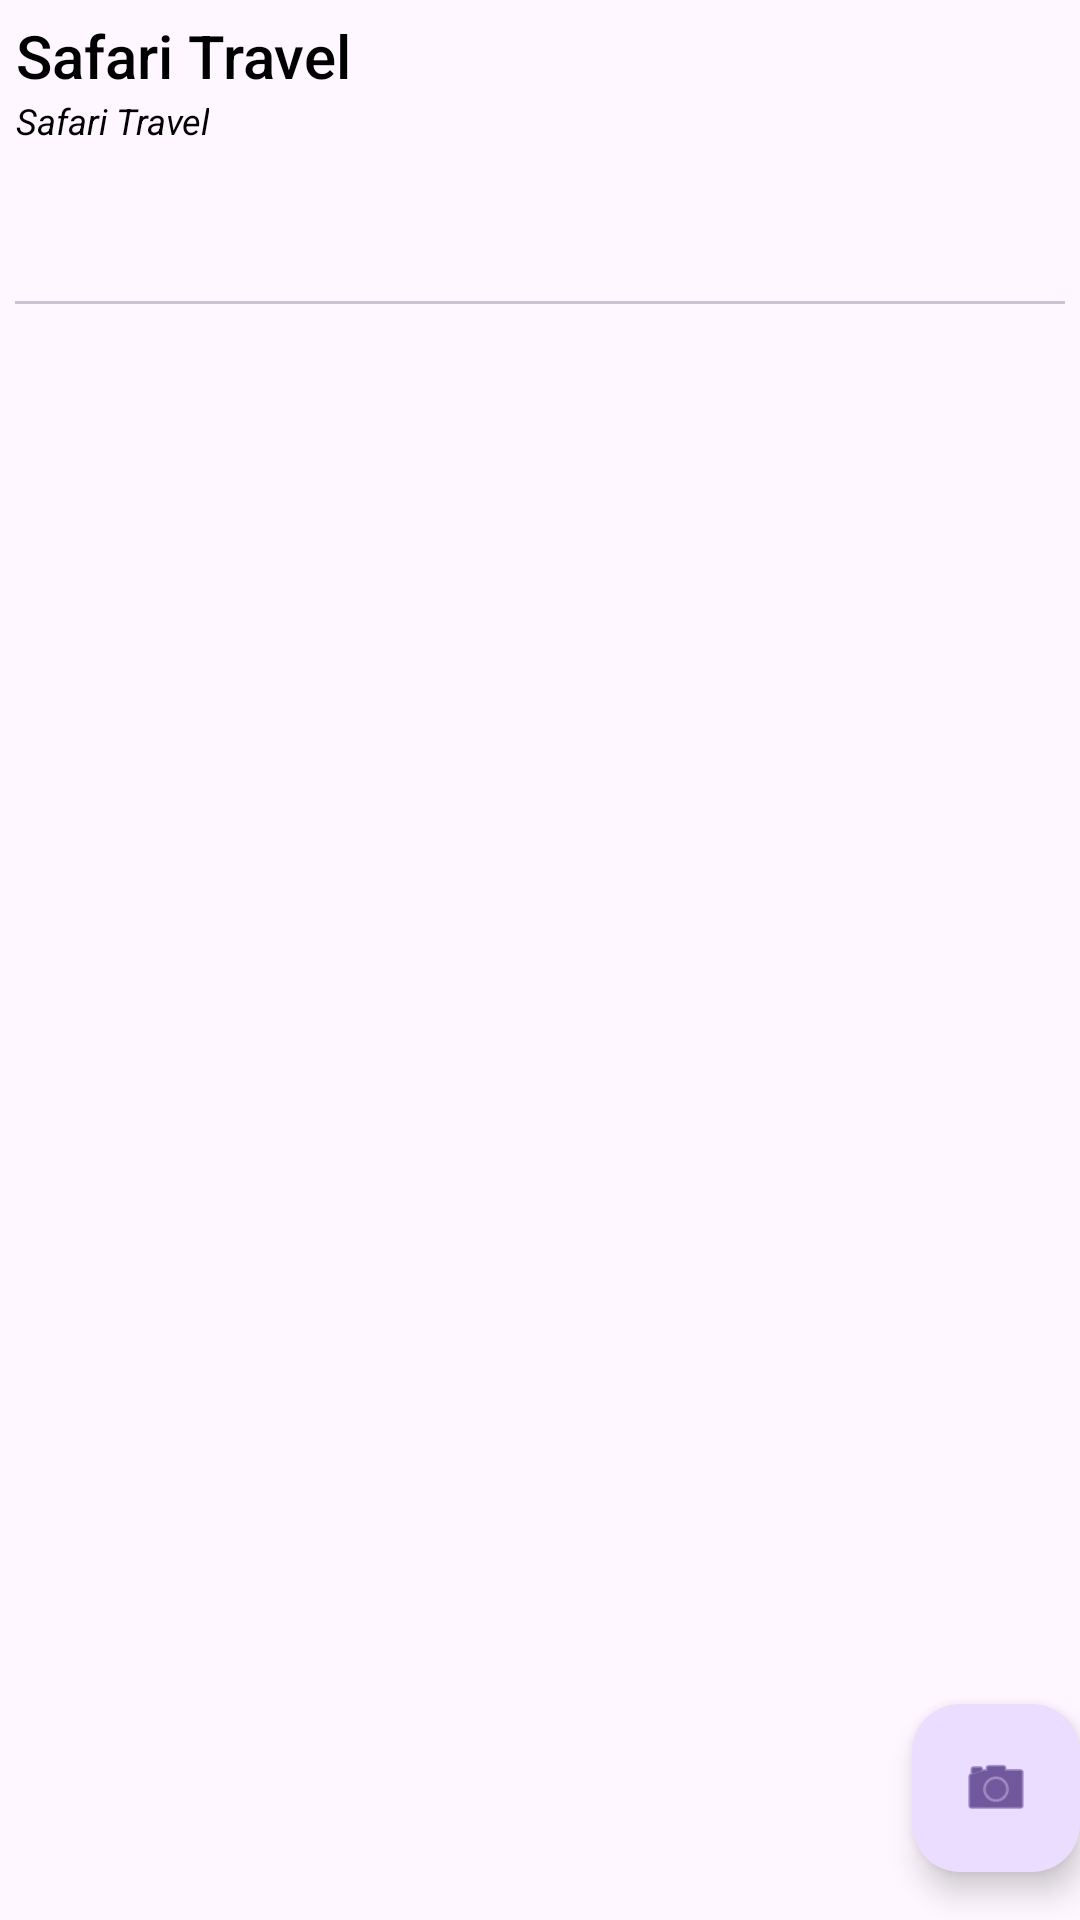

Icons on this 1080*1920 Android screen, each with its box as (x1, y1, x2, y2):
camera: (912, 1704, 1080, 1872)
